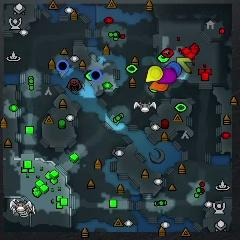p1: (166, 62, 182, 77)
p1Clone: (56, 61, 70, 72), (90, 70, 102, 82)
p3: (159, 68, 177, 84)
p4: (146, 66, 163, 82)
p5: (150, 82, 169, 91)
x2: (176, 57, 191, 73)
